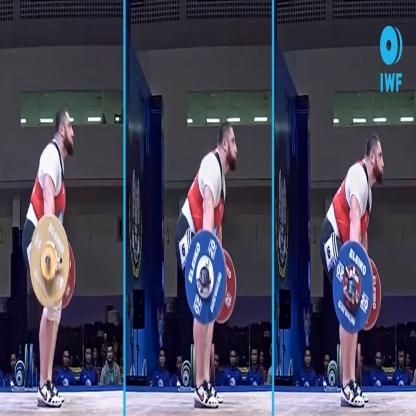Barbell: (181, 223, 231, 337), (24, 205, 72, 309), (329, 236, 375, 336)
